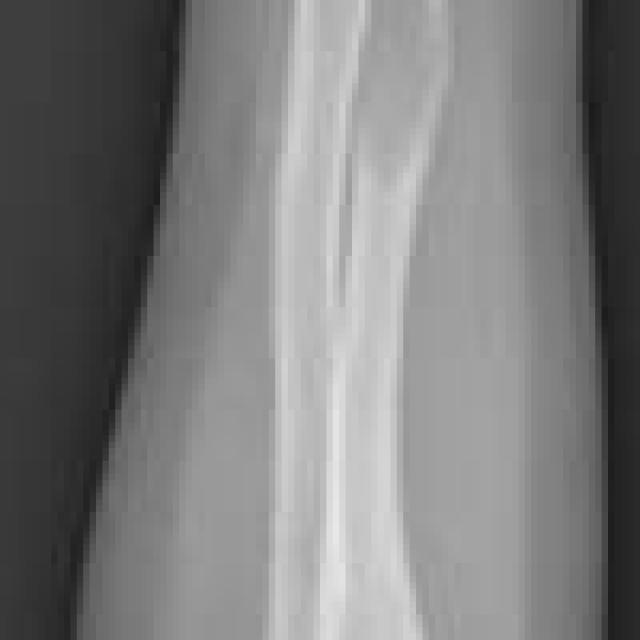Spiral: (234, 141, 436, 428)
